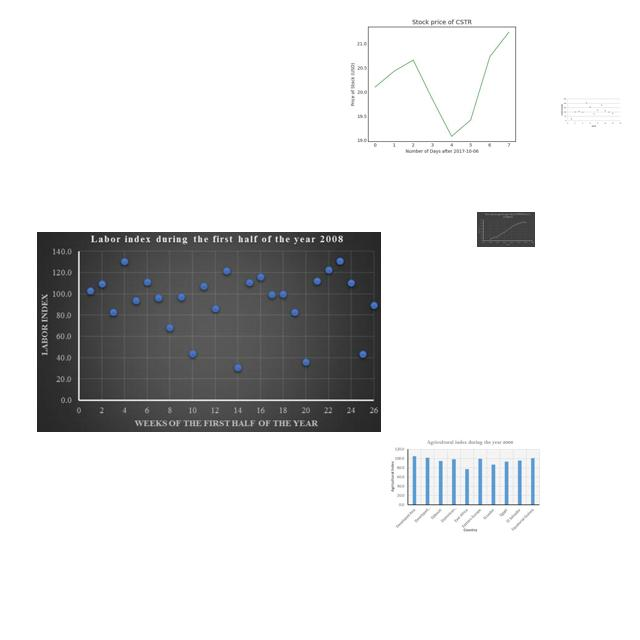Graph: (37, 232, 381, 432), (340, 9, 539, 158), (385, 438, 542, 532), (477, 212, 535, 247), (560, 98, 622, 128)
